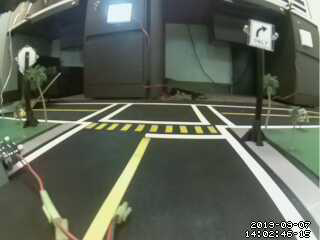Right_only_sign: (247, 17, 274, 57)
